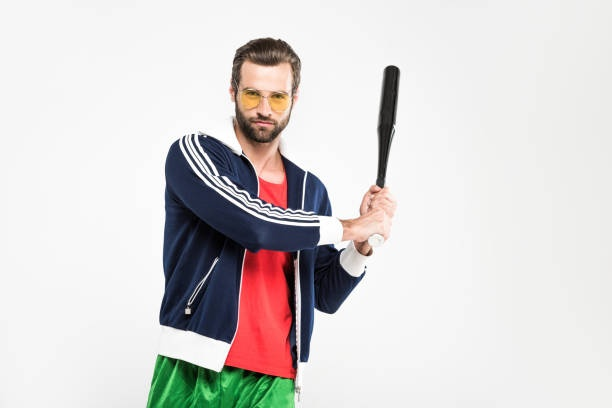bita: (363, 62, 401, 201)
